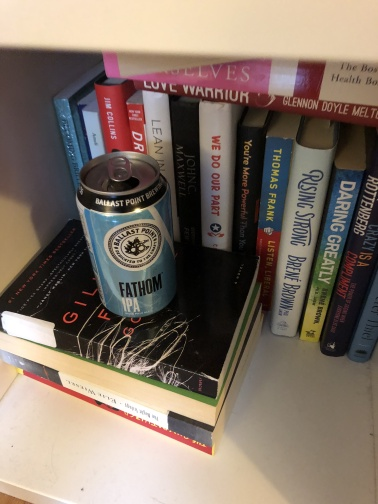can: (72, 148, 179, 320)
